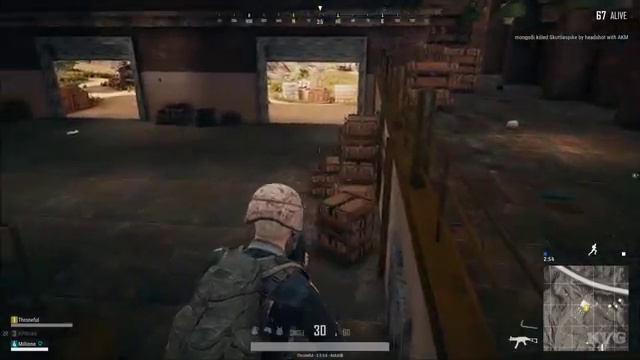Player: (163, 178, 365, 319)
